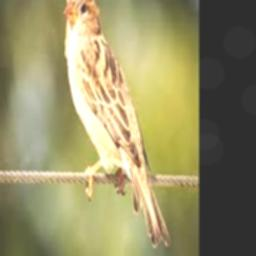Sparrow: (64, 0, 170, 248)
